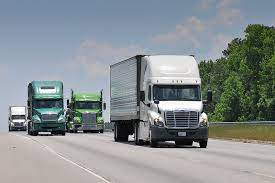truck: (110, 53, 209, 148), (27, 80, 66, 136), (67, 89, 104, 132), (6, 106, 27, 132)
